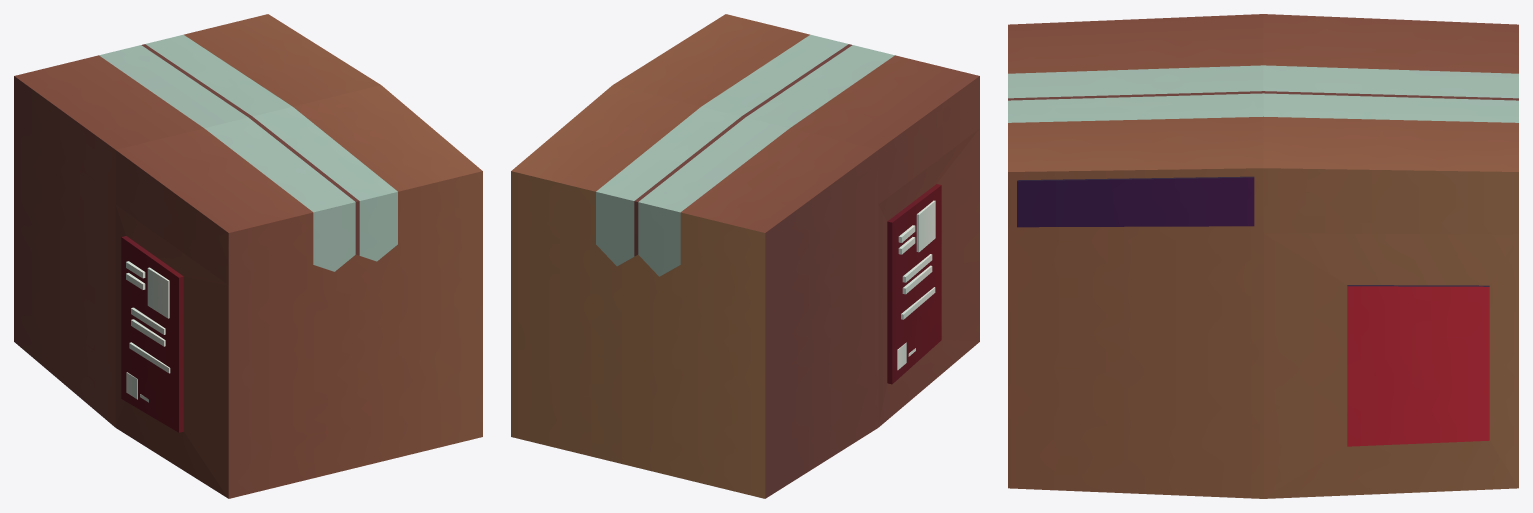
Rendered from Riven_CardboardBox02.fbx.
3 views of the same model, side by side, from view 1: azimuth 30°, elevation 25°; view 2: azimuth 150°, elevation 25°; view 3: azimuth 270°, elevation 25° (orthographic). The views are drawn at different scales.
Parts seen in each view (by area): view 1: BezosBox; view 2: BezosBox; view 3: BezosBox.
Boxes of the visible parts, x1=… form: BezosBox: x1=14, y1=14, x2=482, y2=498; BezosBox: x1=511, y1=14, x2=979, y2=498; BezosBox: x1=1008, y1=14, x2=1518, y2=498.
Size of the model in its own units: 43.48 by 42.18 by 59.03.
